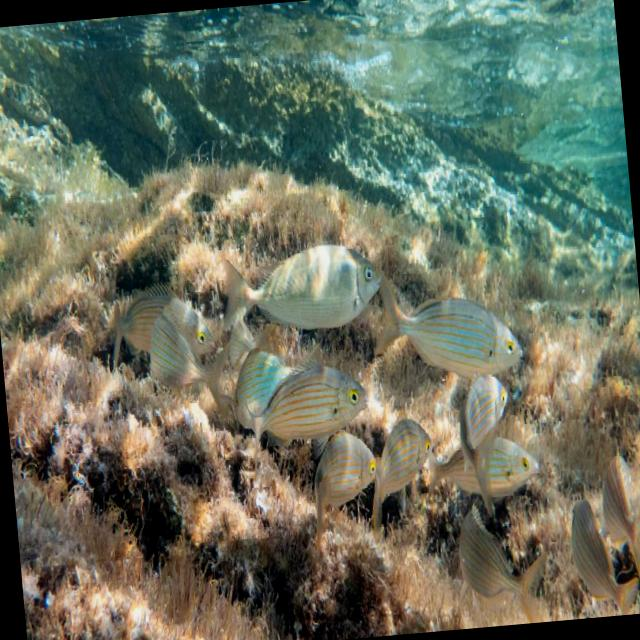Sokar Baligi: (202, 220, 392, 348), (230, 348, 378, 468)
